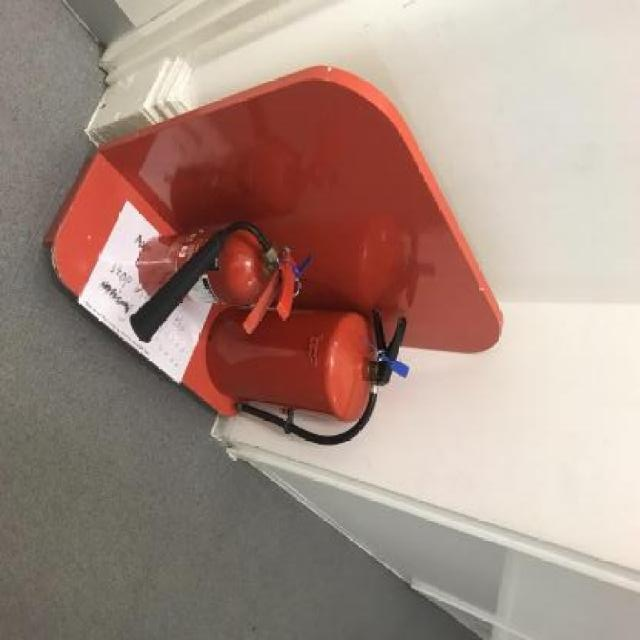fire extinguisher: (207, 308, 408, 449), (129, 222, 297, 344)
